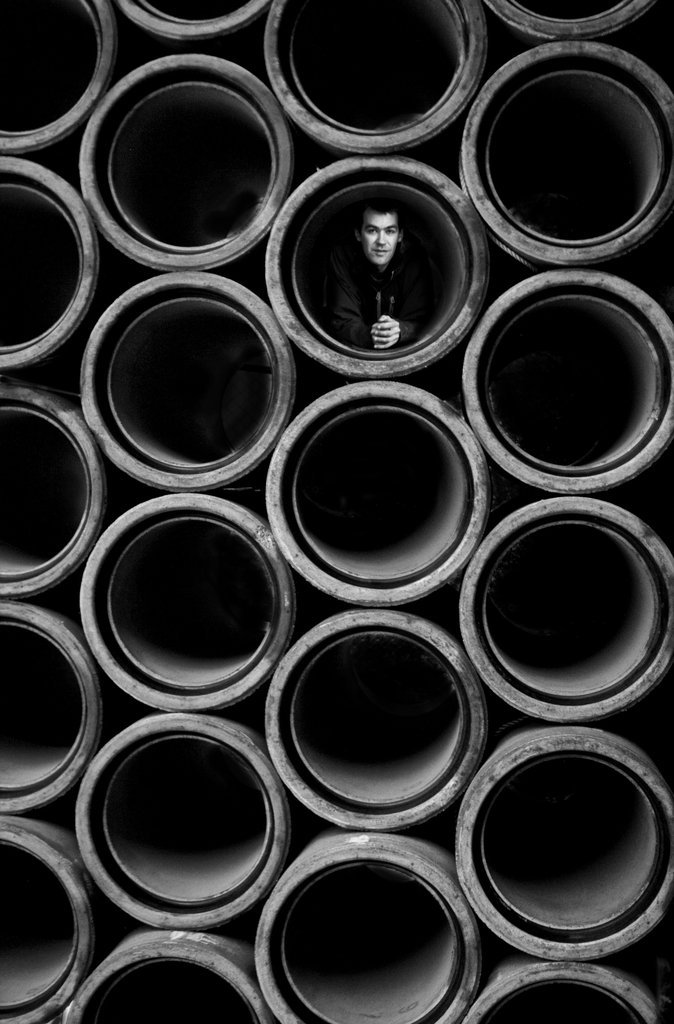person: (320, 188, 435, 351)
